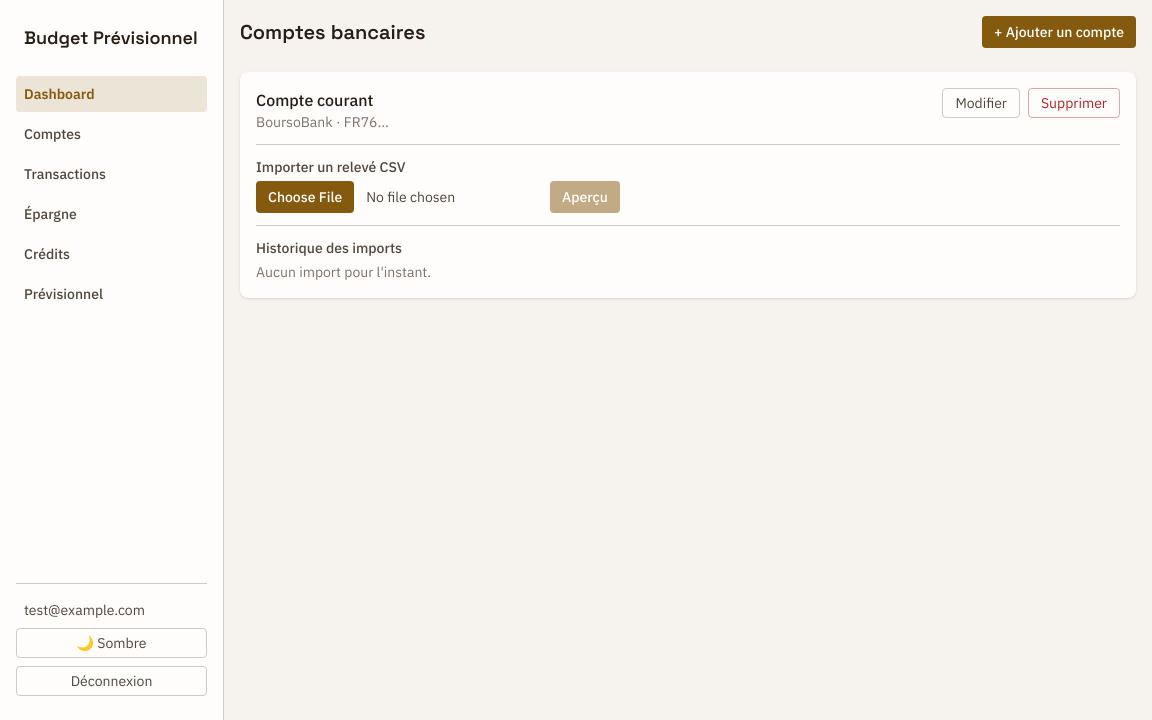
Test: AccountsPage › does not delete when the confirmation is dismissed
Check: the text "Compte courant" is shown, box [256, 88, 389, 112]
Click the button "Supprimer".
click(1074, 103)  # box [1028, 88, 1120, 118]
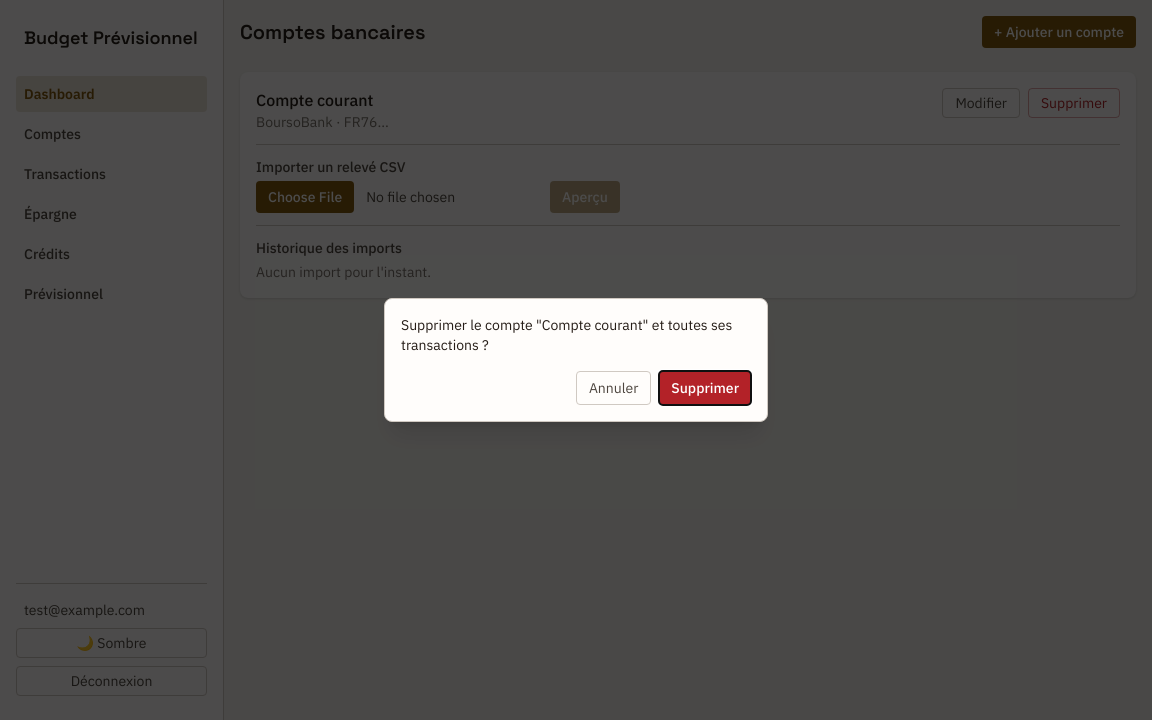
Click the button "Annuler".
click(614, 388)  # box [576, 371, 651, 405]
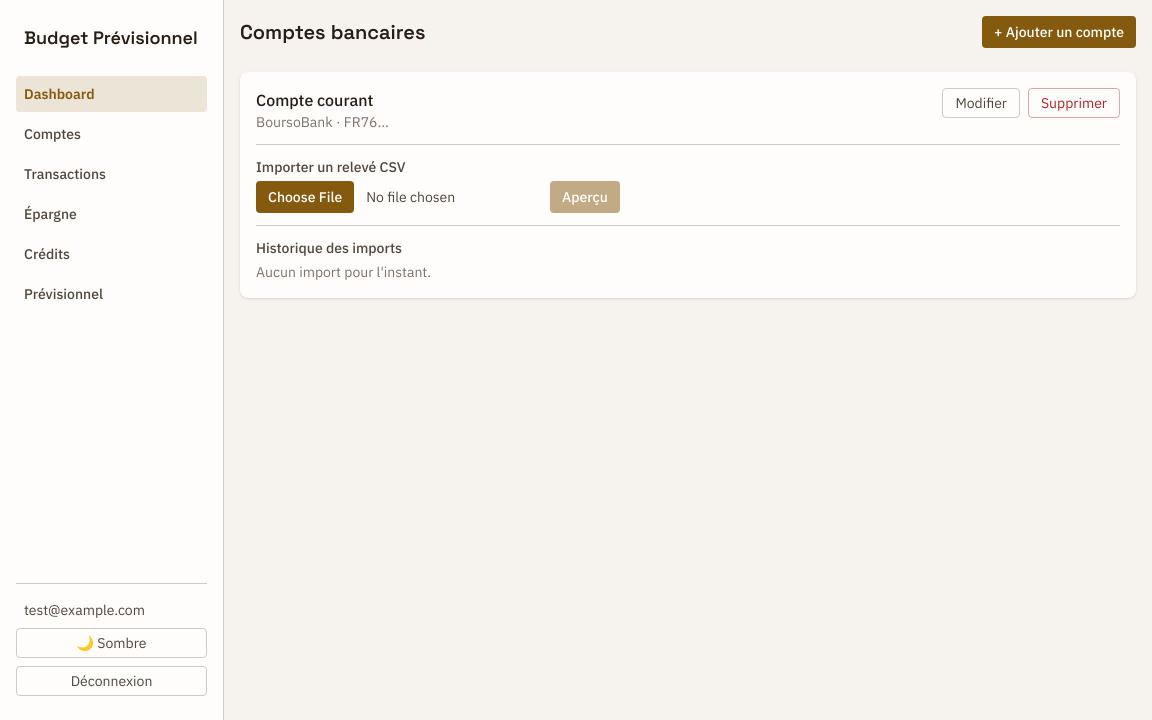
Check: the dialog is gone
